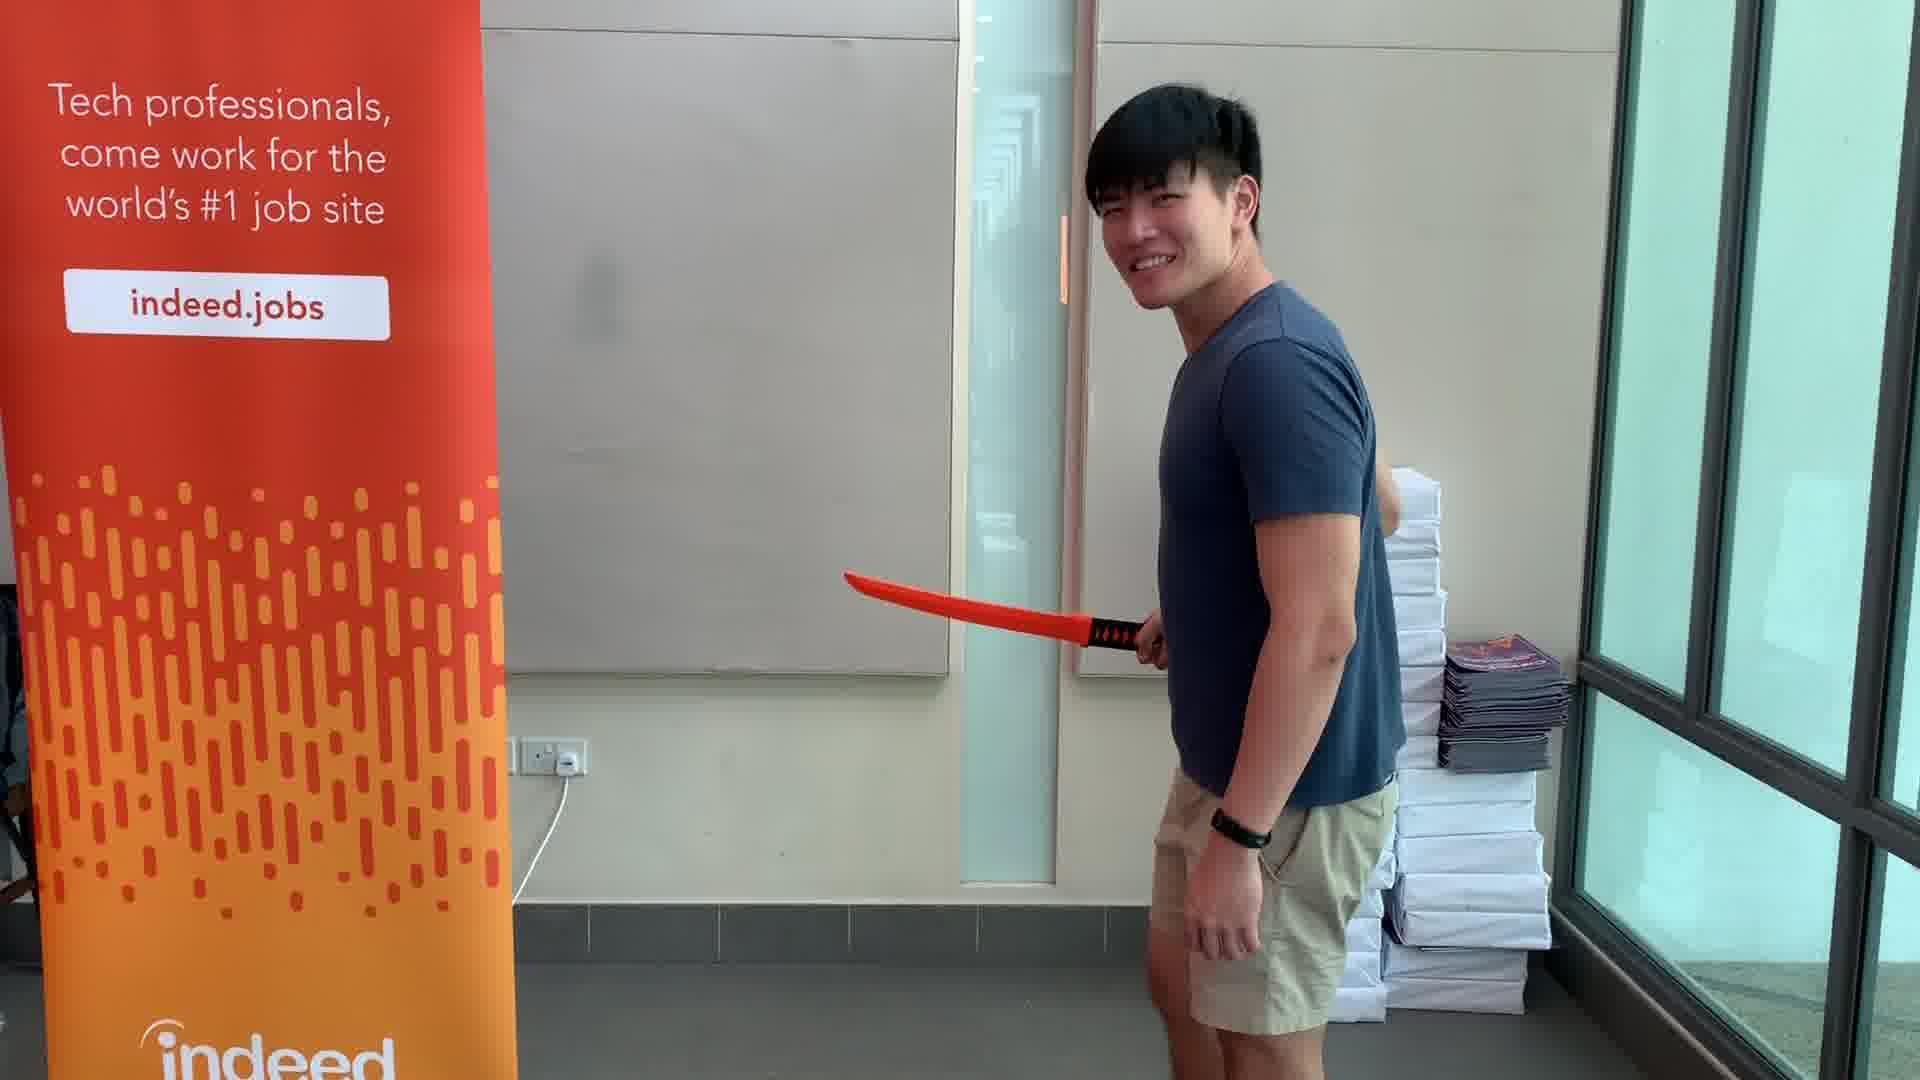knife: (837, 563, 1182, 666)
